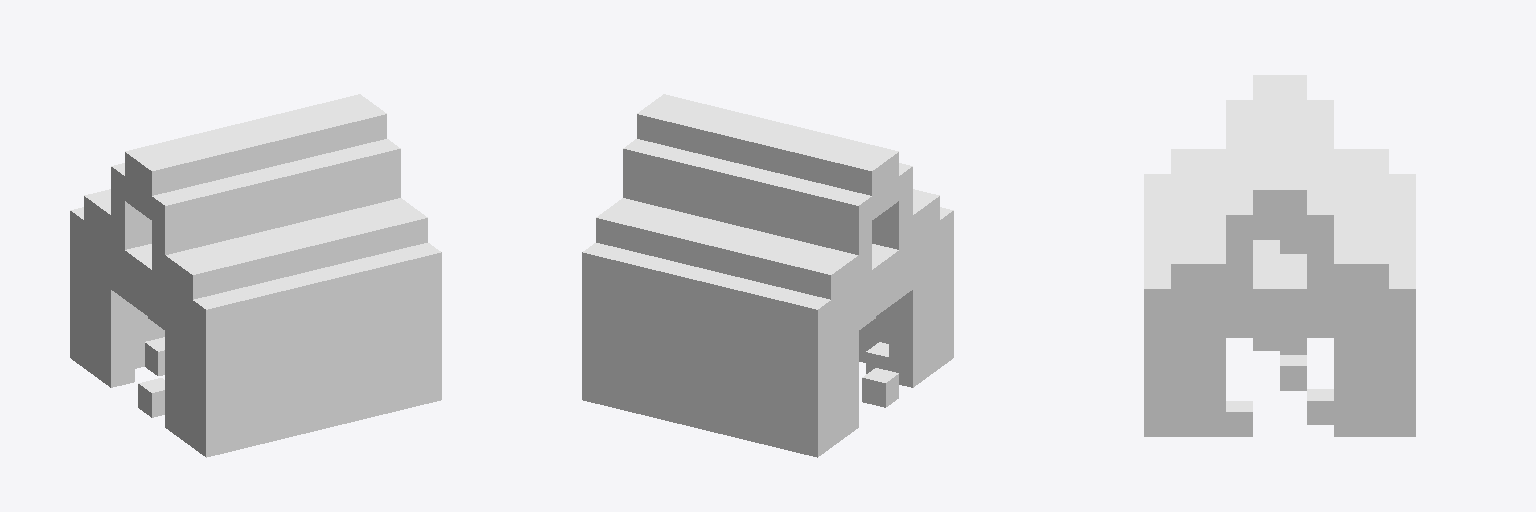
The model's file is StoreBuilding_01.obj.
3 views of the same model, side by side, from view 1: azimuth 30°, elevation 25°; view 2: azimuth 150°, elevation 25°; view 3: azimuth 270°, elevation 25° (orthographic).
Parts seen in each view (by area): view 1: object 1; view 2: object 1; view 3: object 1.
Boxes of the visible parts, x1=… form: object 1: x1=70, y1=94, x2=441, y2=457; object 1: x1=582, y1=94, x2=953, y2=457; object 1: x1=1144, y1=75, x2=1415, y2=436.
Size of the model in its own units: 1 by 1 by 1.